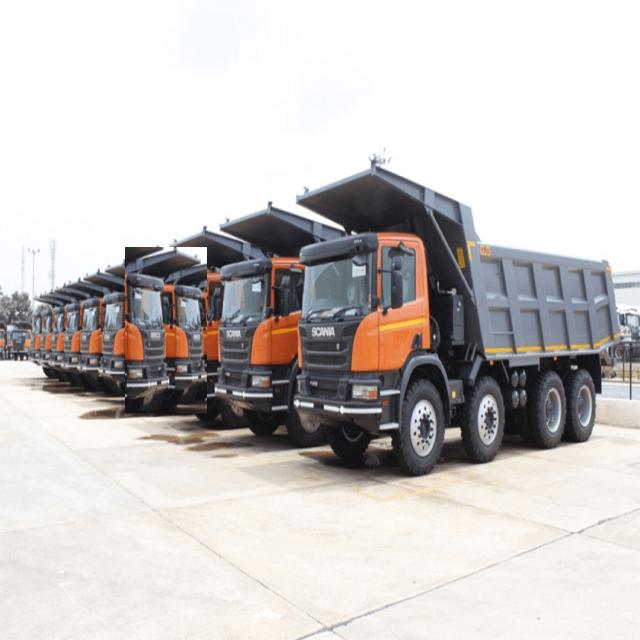truck: (294, 165, 619, 473), (215, 202, 345, 447), (164, 228, 263, 427), (126, 247, 207, 413)
